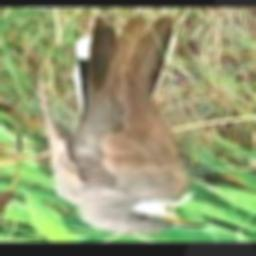Cuckoo: (47, 19, 209, 234)
